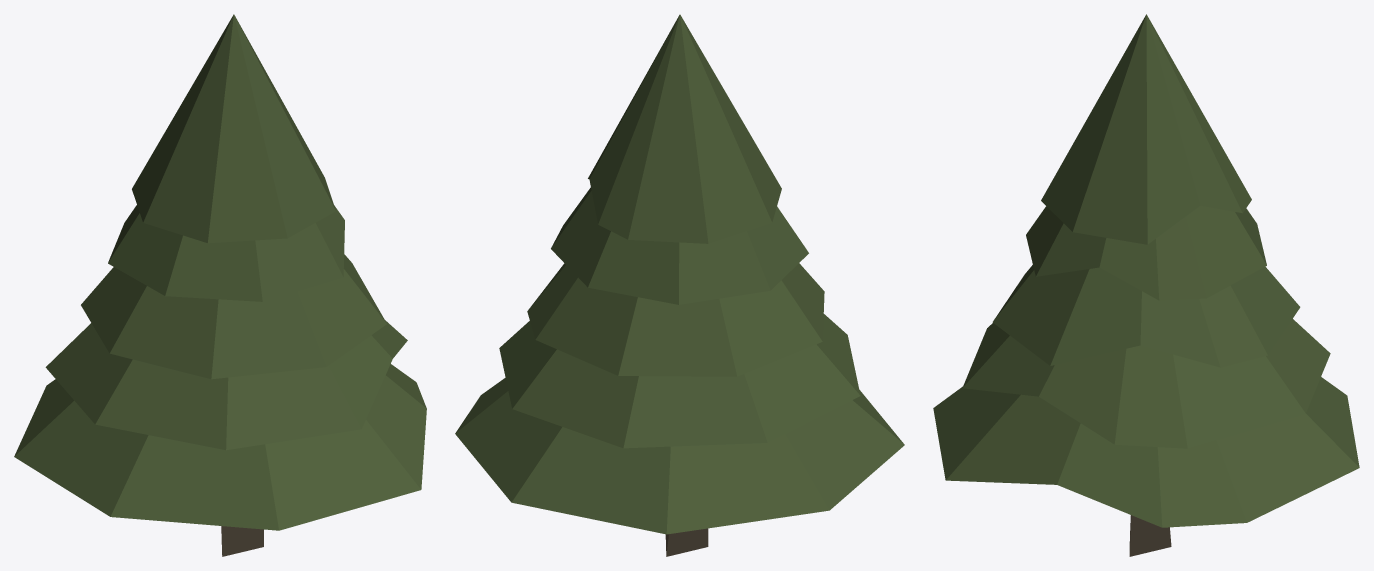
File: Tree D, 2.fbx
The picture shows the model from 3 angles, left to right: view 1: azimuth 30°, elevation 25°; view 2: azimuth 150°, elevation 25°; view 3: azimuth 270°, elevation 25°; orthographic projection.
Visible parts, largest first — view 1: Cylinder.002; view 2: Cylinder.002; view 3: Cylinder.002.
Part boxes in pixels (x1,y1,x2,y2): Cylinder.002: (14, 14, 426, 556); Cylinder.002: (455, 14, 904, 556); Cylinder.002: (933, 14, 1359, 556).
Bounding box in the file's own units: 700 × 949 × 689.
